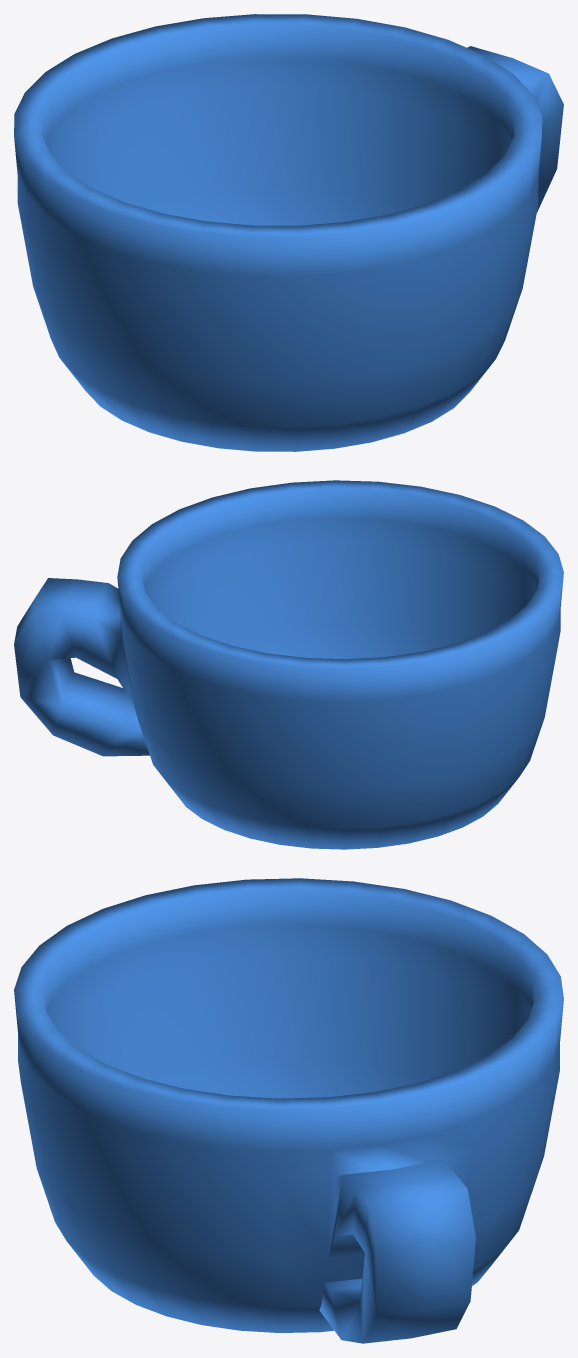
3 views of the same model, one above another, from view 1: azimuth 30°, elevation 25°; view 2: azimuth 150°, elevation 25°; view 3: azimuth 270°, elevation 25° (orthographic). The views are drawn at different scales.
Visible parts, largest first — view 1: Circle; view 2: Circle; view 3: Circle.
Part boxes in pixels (box(x1,y1,x2,y2)): Circle: box(14, 14, 563, 451); Circle: box(14, 480, 563, 849); Circle: box(14, 878, 563, 1343).
Size of the model in its own units: 321 by 133 by 264.
